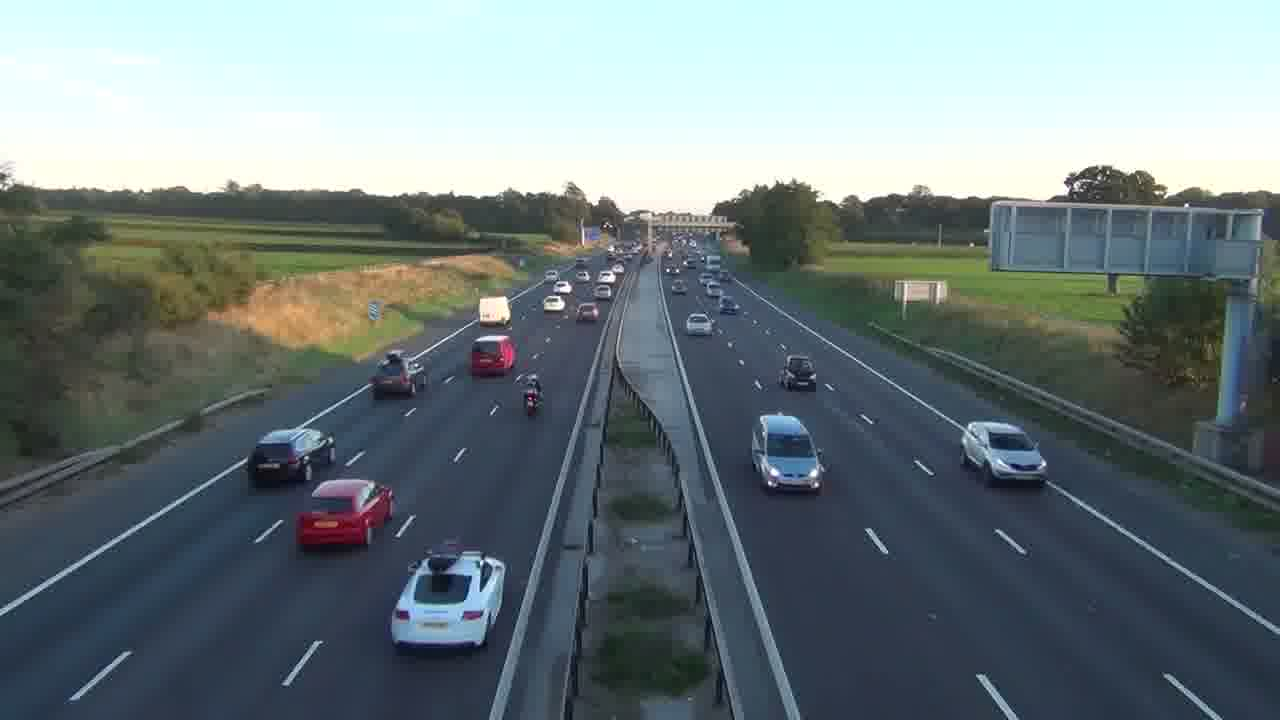car: (389, 545, 507, 652), (295, 477, 395, 551), (750, 412, 828, 495), (960, 419, 1048, 486), (247, 428, 336, 487), (779, 354, 817, 391), (685, 311, 712, 335), (575, 303, 600, 324), (543, 295, 567, 312)
truck: (479, 295, 512, 328)
